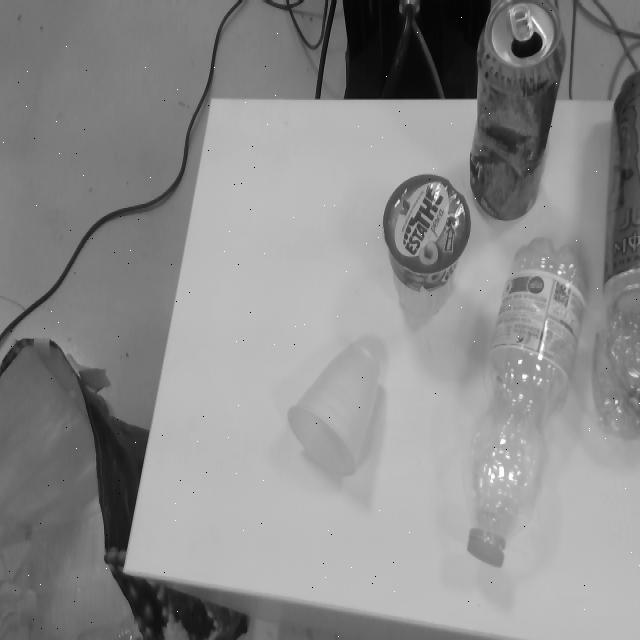aluminum: (472, 0, 563, 221), (605, 64, 640, 308)
plastic: (466, 235, 594, 564), (285, 339, 383, 478), (382, 172, 471, 314), (591, 306, 640, 446)
